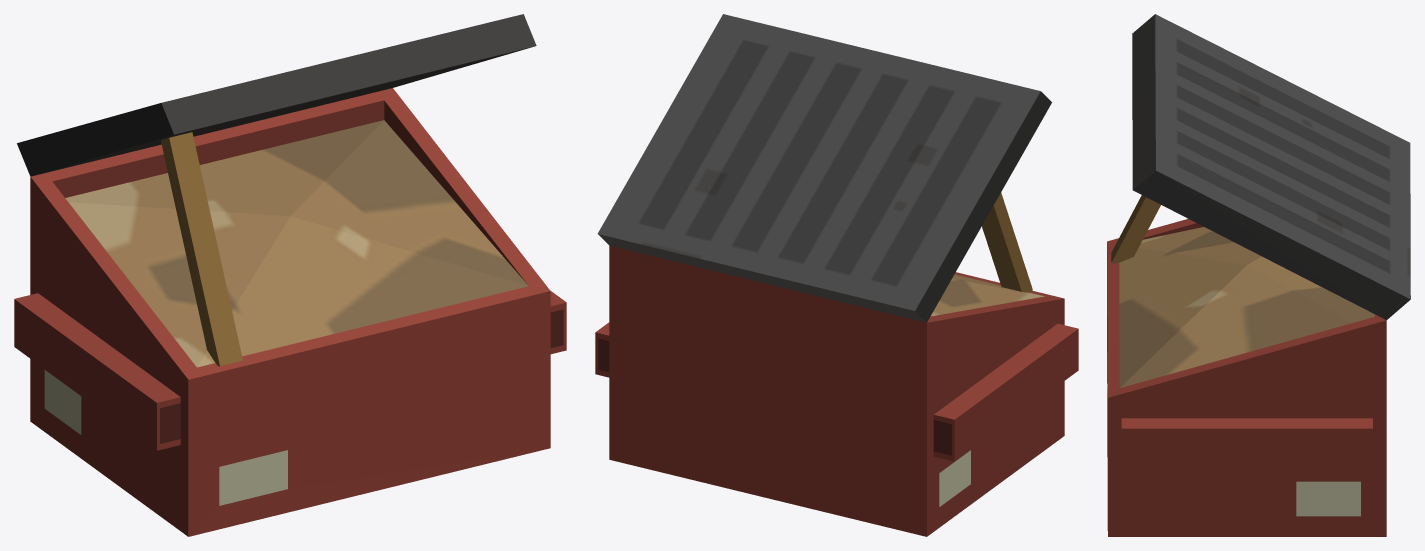
File: SM_Dumpster_Open_02.fbx
3 views of the same model, side by side, from view 1: azimuth 30°, elevation 25°; view 2: azimuth 150°, elevation 25°; view 3: azimuth 270°, elevation 25° (orthographic). The views are drawn at different scales.
Parts seen in each view (by area): view 1: SM_Dumpster_Open_02; view 2: SM_Dumpster_Open_02; view 3: SM_Dumpster_Open_02.
Boxes of the visible parts, box(x1,y1,x2,y2) form: SM_Dumpster_Open_02: box(14, 14, 566, 536); SM_Dumpster_Open_02: box(595, 14, 1078, 536); SM_Dumpster_Open_02: box(1107, 14, 1410, 536).
Size of the model in its own units: 3.29 by 3.17 by 2.38.
